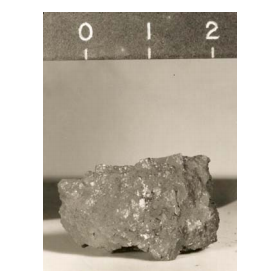Breccia: (44, 121, 229, 261)
